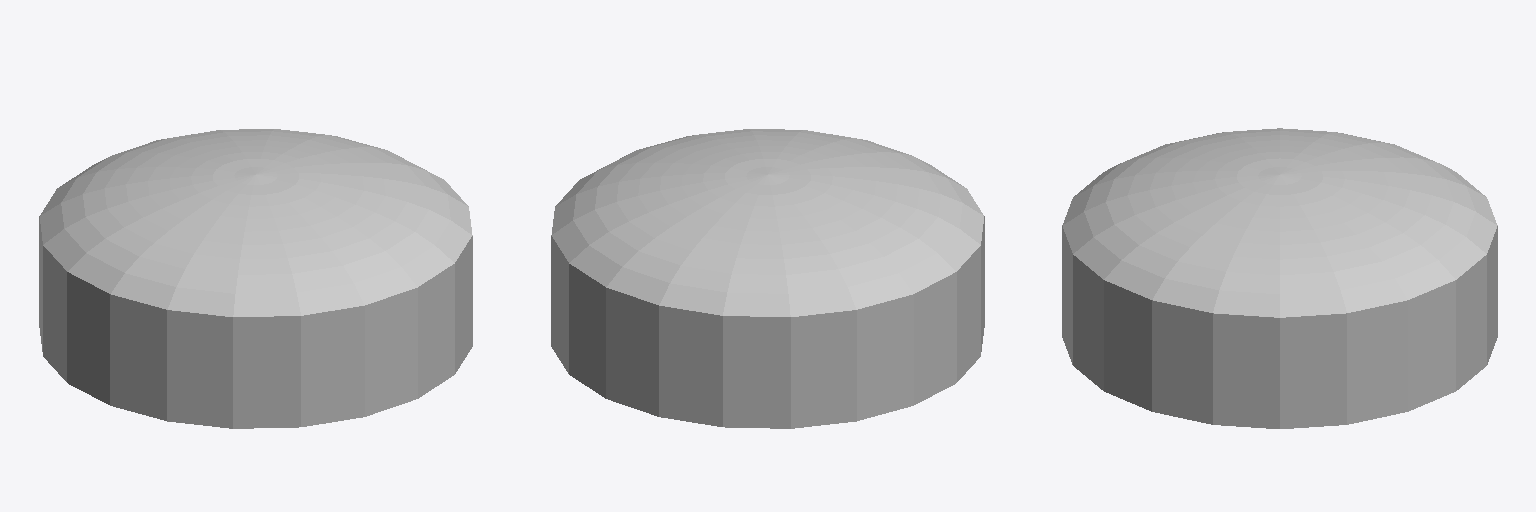
Rendered from roomba.obj.
3 renders of one model, left to right at view 1: azimuth 30°, elevation 25°; view 2: azimuth 150°, elevation 25°; view 3: azimuth 270°, elevation 25°, orthographic.
Parts seen in each view (by area): view 1: initialShadingGroup pCylinder1; view 2: initialShadingGroup pCylinder1; view 3: initialShadingGroup pCylinder1.
Boxes of the visible parts, x1=… form: initialShadingGroup pCylinder1: x1=39, y1=129, x2=472, y2=428; initialShadingGroup pCylinder1: x1=551, y1=129, x2=984, y2=428; initialShadingGroup pCylinder1: x1=1062, y1=128, x2=1497, y2=428.
Bounding box in the file's own units: 2 × 0.8256 × 2.